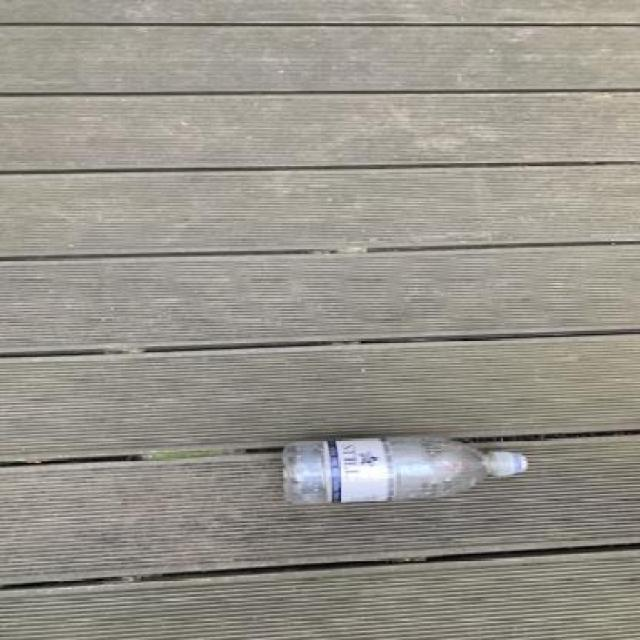trash: (280, 426, 535, 508)
